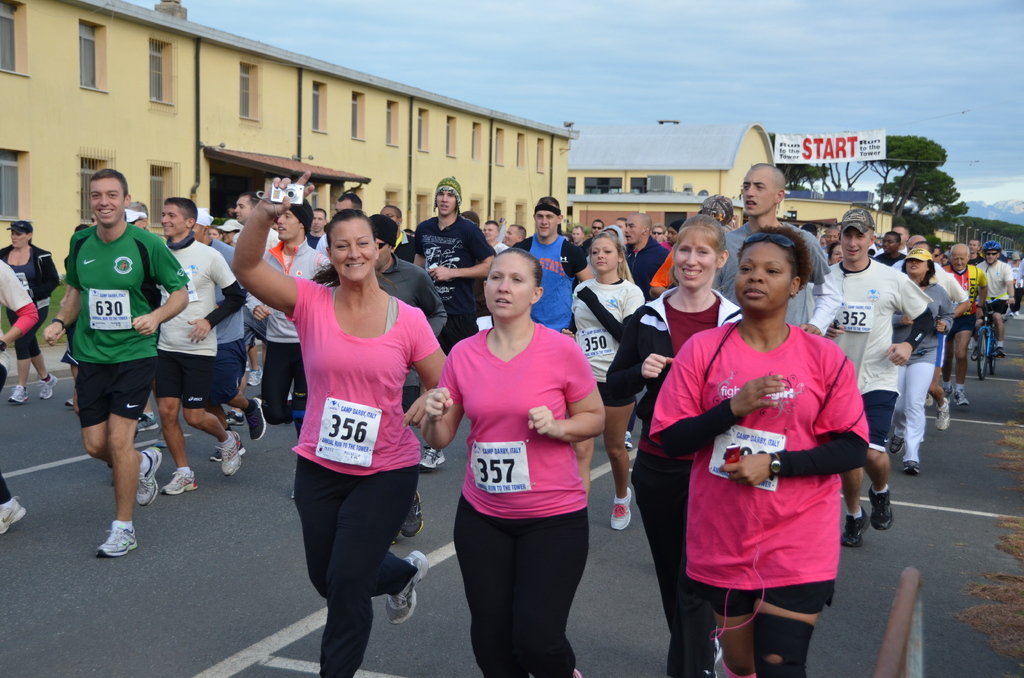Footwear: (387, 547, 429, 631), (134, 444, 163, 504), (97, 519, 138, 558), (837, 507, 873, 551), (404, 486, 426, 536), (611, 486, 634, 532), (0, 497, 28, 533), (870, 488, 891, 533), (221, 433, 242, 477), (246, 397, 266, 440), (167, 469, 202, 492), (419, 446, 447, 473), (134, 410, 163, 435), (932, 397, 953, 431), (41, 368, 60, 402), (248, 366, 263, 387), (227, 410, 244, 427), (890, 435, 904, 455), (11, 389, 28, 403), (958, 389, 972, 406), (906, 456, 919, 474), (995, 347, 1009, 361), (570, 666, 586, 677), (625, 431, 633, 453), (974, 350, 984, 362), (943, 387, 953, 397)
